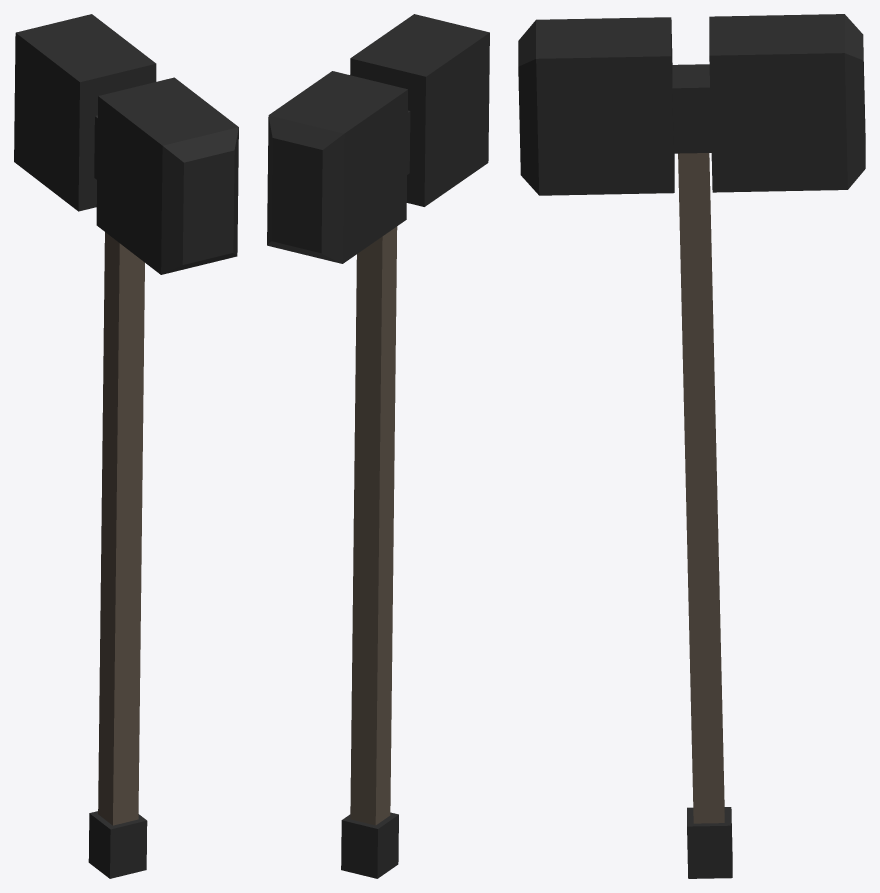
File: Hammer_02.fbx
3 views of the same model, side by side, from view 1: azimuth 30°, elevation 25°; view 2: azimuth 150°, elevation 25°; view 3: azimuth 270°, elevation 25° (orthographic). The views are drawn at different scales.
Visible parts, largest first — view 1: Hammer_02; view 2: Hammer_02; view 3: Hammer_02.
Boxes of the visible parts, left/top/right/bottom form: Hammer_02: left=14, top=14, right=238, bottom=878; Hammer_02: left=267, top=14, right=489, bottom=878; Hammer_02: left=518, top=14, right=865, bottom=878.
Bounding box in the file's own units: 2.13 × 21.18 × 7.98.
